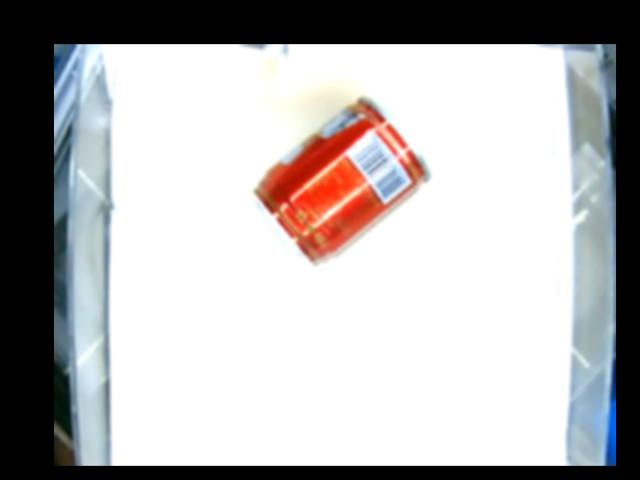Bottle: (252, 94, 428, 266)
